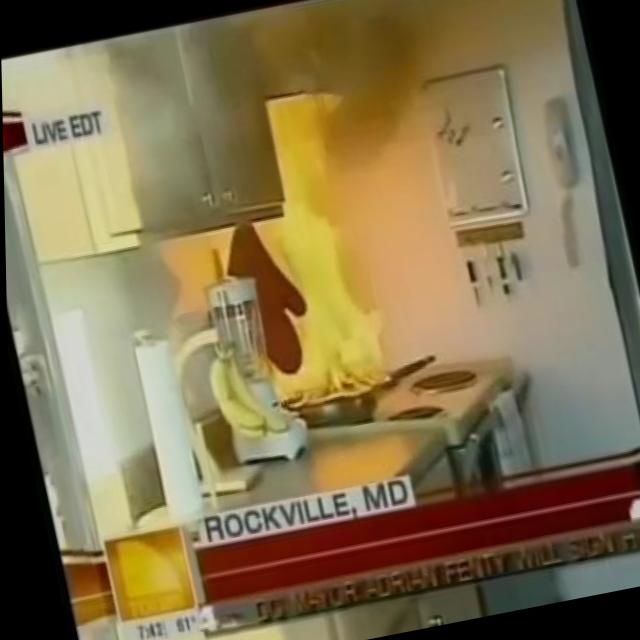fire: (221, 130, 395, 417)
